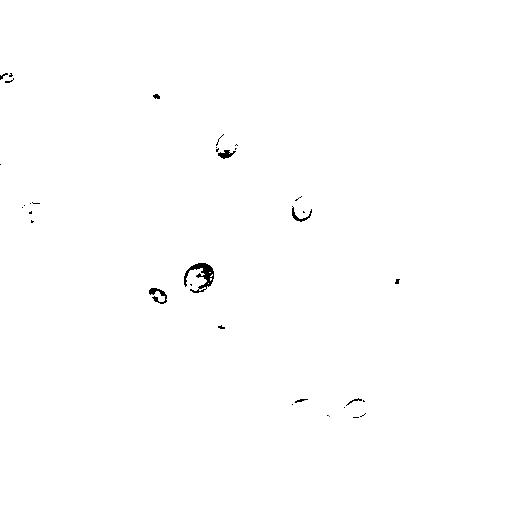micro-algae: (0, 147, 57, 220), (103, 174, 153, 227), (377, 263, 416, 297), (183, 261, 217, 294), (289, 193, 317, 222), (286, 398, 316, 425), (19, 201, 50, 227), (215, 131, 239, 160), (339, 398, 369, 419), (147, 285, 168, 308), (218, 210, 235, 231), (504, 364, 512, 399), (1, 71, 15, 83)
